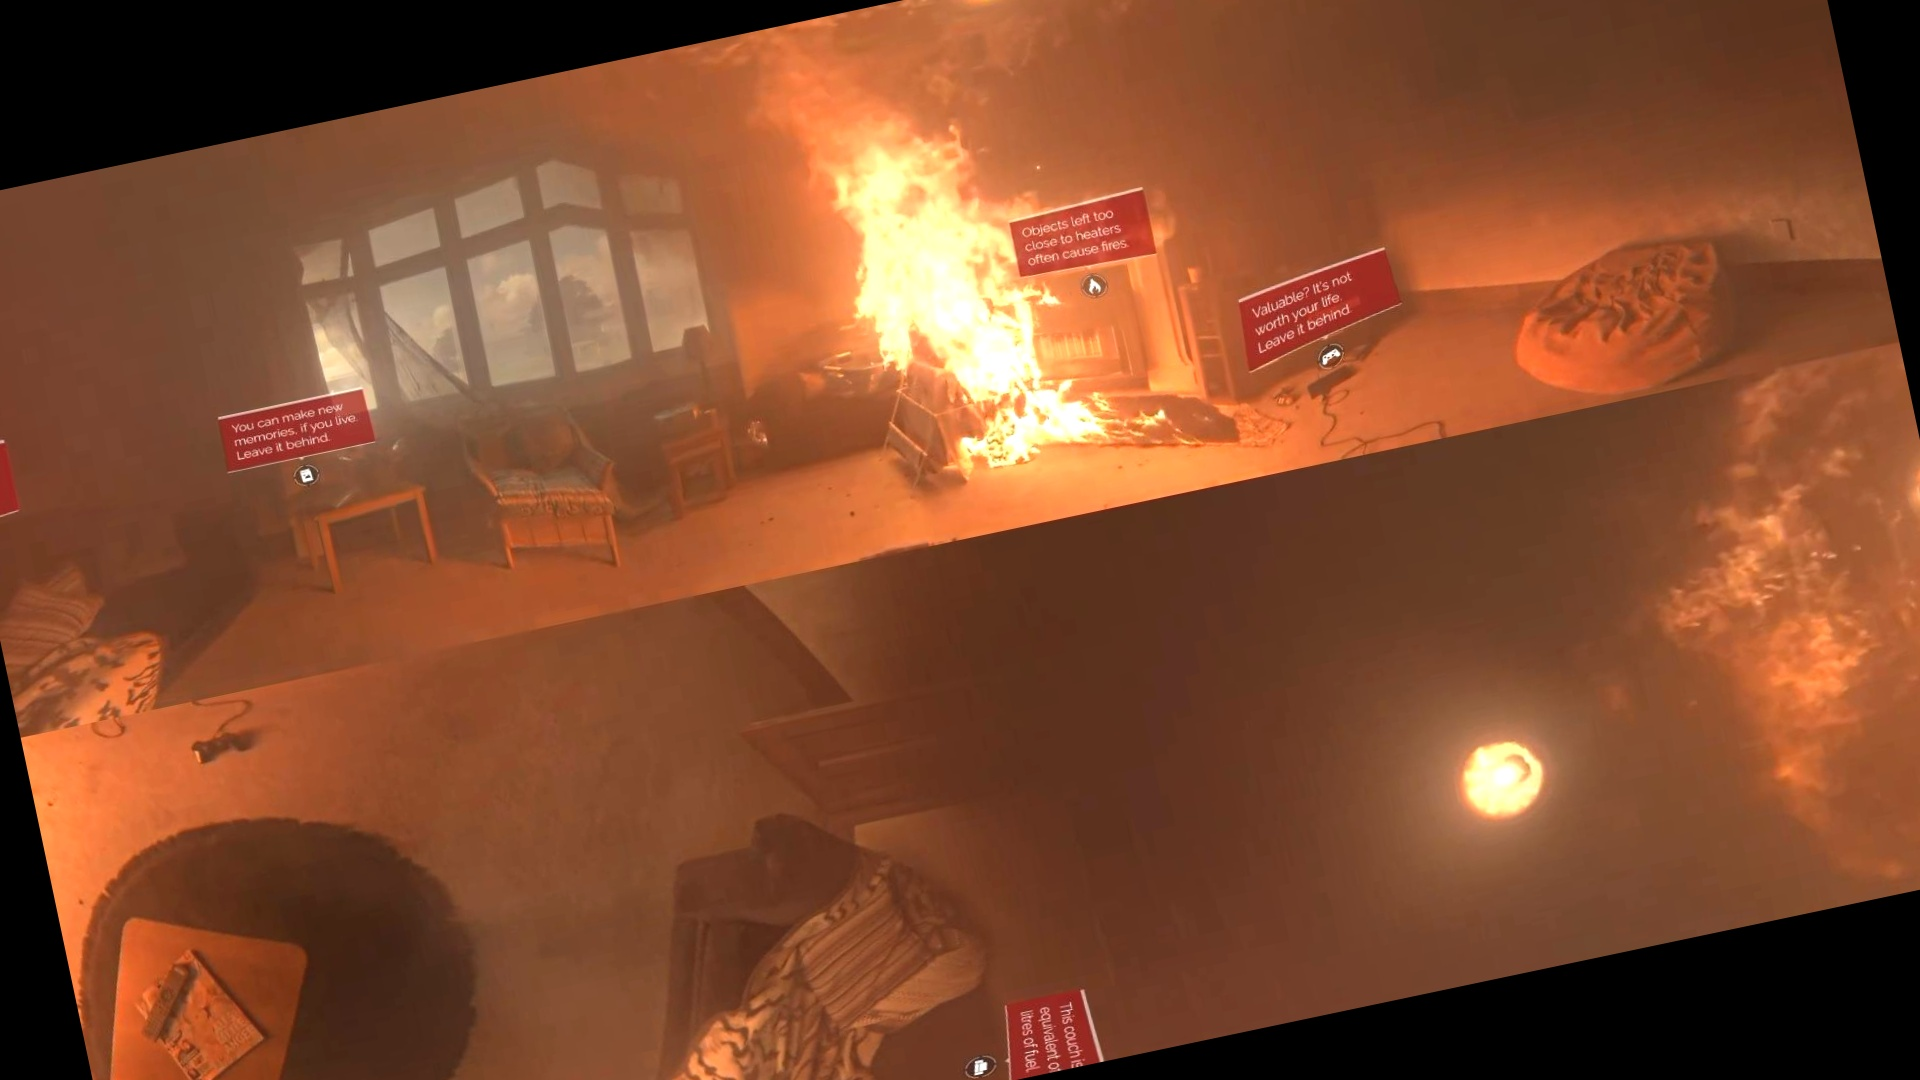fire: (758, 0, 1083, 477)
